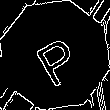P_NW: (26, 24, 84, 86)
